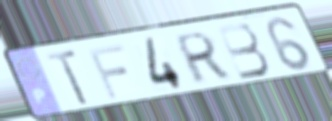4: (146, 35, 185, 93)
6: (264, 15, 315, 74)
B: (214, 21, 272, 82)
F: (86, 42, 130, 101)
R: (173, 29, 232, 87)
T: (44, 48, 93, 108)
